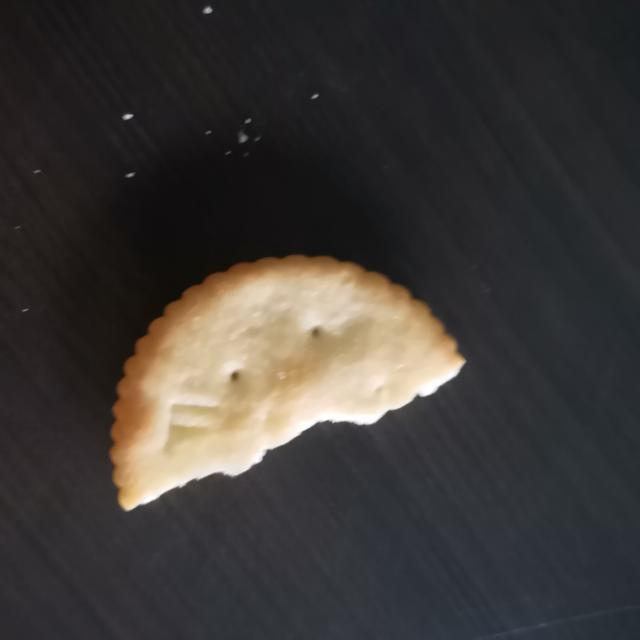Broken: (108, 252, 467, 512)
